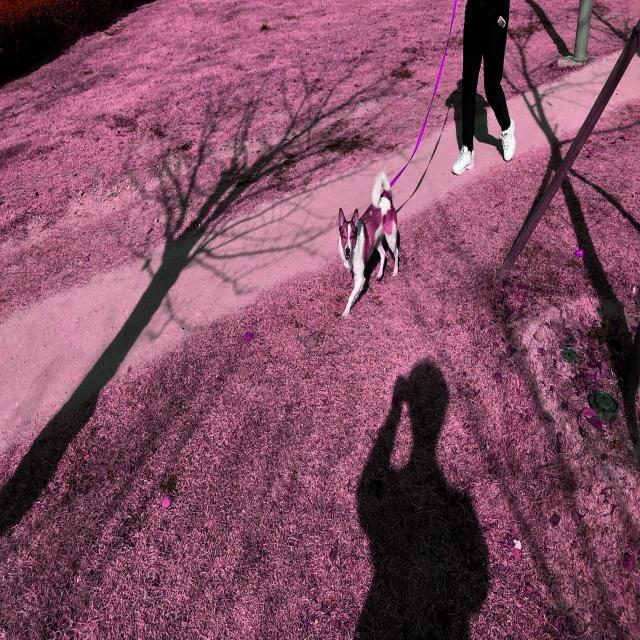Leashed_Dog: (336, 0, 480, 321)
